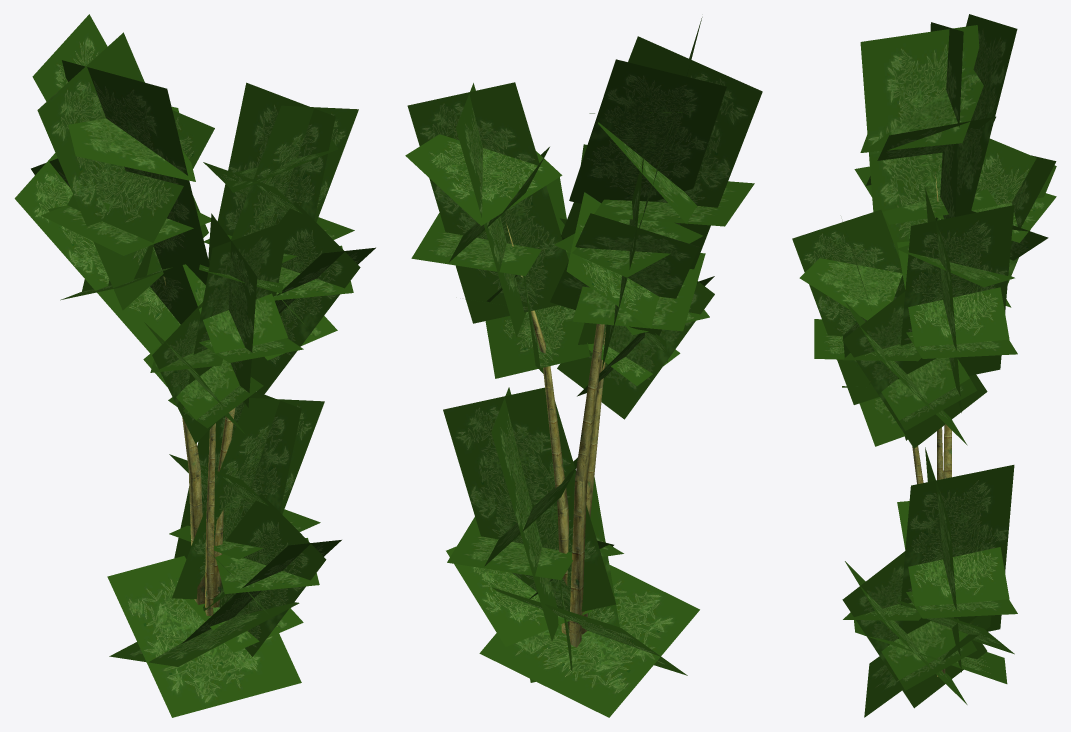
Rendered from nf_bamboo.glb.
3 renders of one model, left to right at view 1: azimuth 30°, elevation 25°; view 2: azimuth 150°, elevation 25°; view 3: azimuth 270°, elevation 25°, orthographic. The views are drawn at different scales.
Parts seen in each view (by area): view 1: Box02; view 2: Box02; view 3: Box02.
Boxes of the visible parts, x1,y1,x2,y2 form: Box02: (14, 14, 375, 717); Box02: (405, 17, 762, 717); Box02: (792, 14, 1056, 717).
Size of the model in its own units: 60.26 by 114 by 42.9.
Materials: 1 (1 with a texture image).
